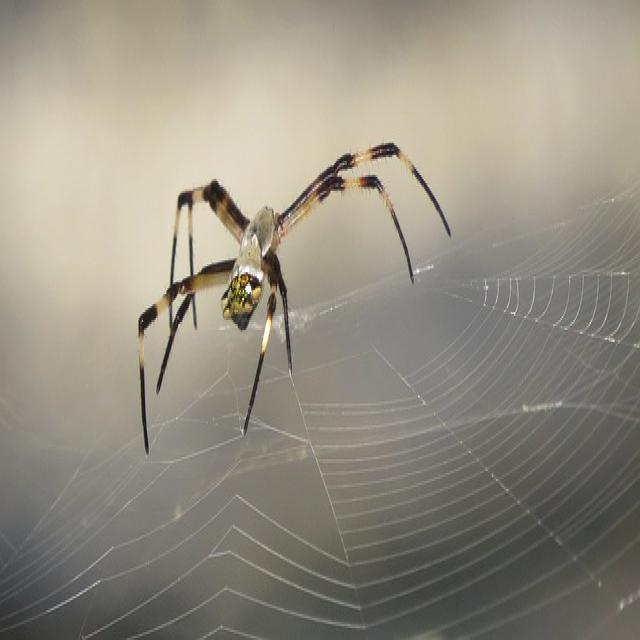spyder: (139, 144, 450, 451)
